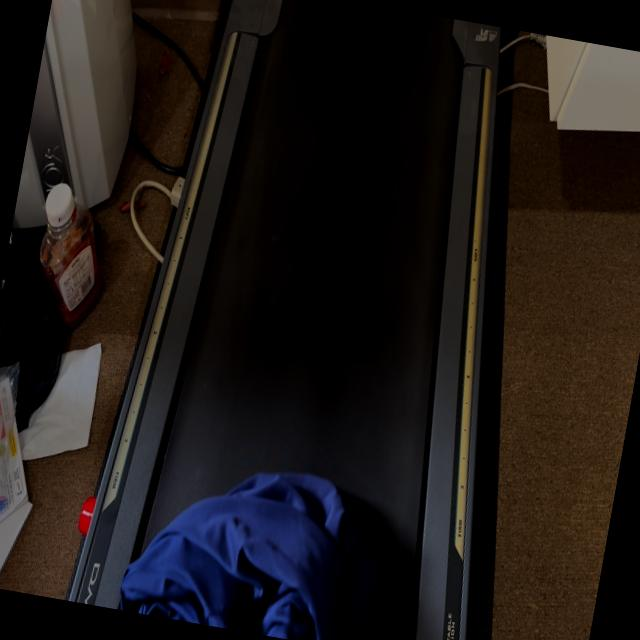Trash: (128, 463, 370, 640)
